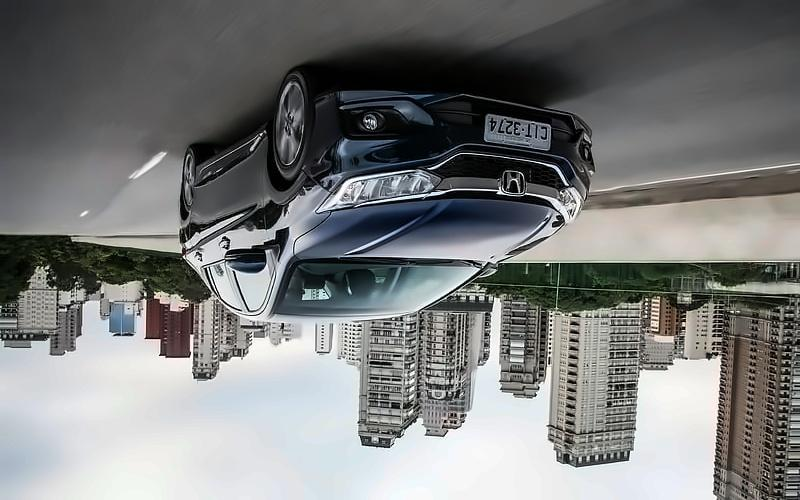Driver-s door - -F-R-: (293, 194, 549, 270)
Fender - -F-L-: (243, 144, 341, 251)
Front bumper: (321, 80, 601, 203)
Headlight - -L-: (313, 167, 444, 217)
Headlight - -R-: (553, 182, 584, 225)
Passenger-s door - -F-L-: (213, 120, 293, 320)
Passenger-s door - -R-L-: (187, 134, 250, 324)
Side bumper - -L-: (192, 113, 271, 219)
Side mirror - -L-: (226, 243, 271, 273)
